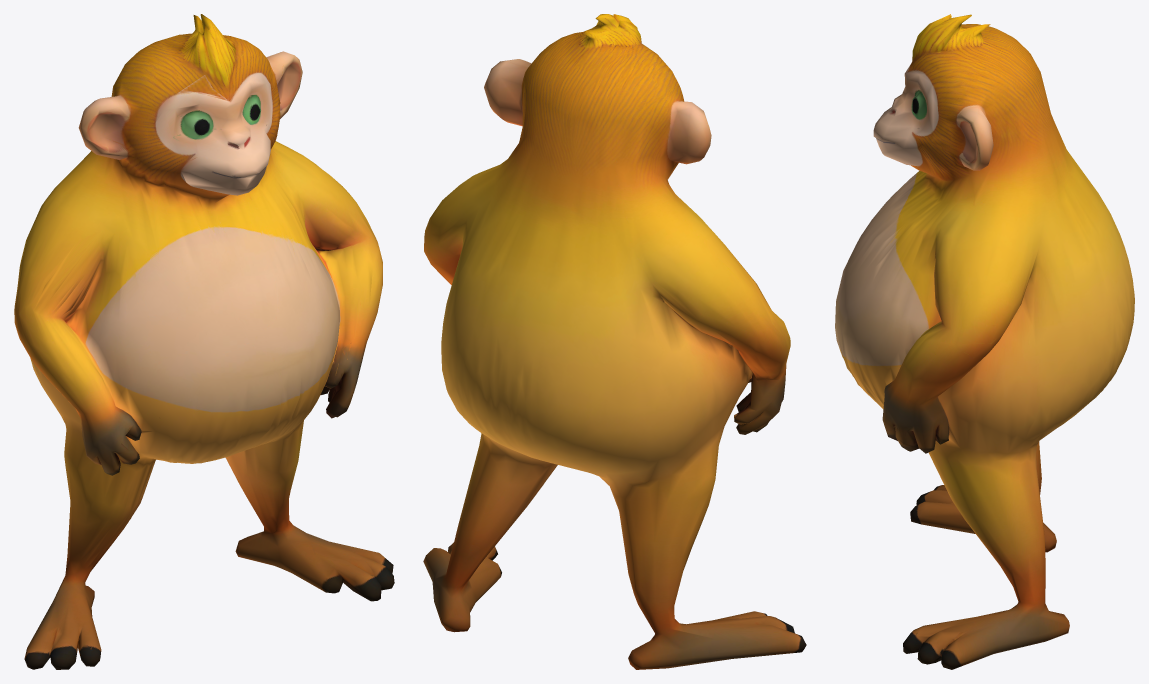
3 renders of one model, left to right at view 1: azimuth 30°, elevation 25°; view 2: azimuth 150°, elevation 25°; view 3: azimuth 270°, elevation 25°, orthographic. The views are drawn at different scales.
Parts seen in each view (by area): view 1: tripo_node_b1b4c305; view 2: tripo_node_b1b4c305; view 3: tripo_node_b1b4c305.
Boxes of the visible parts, x1,y1,x2,y2 form: tripo_node_b1b4c305: [14, 14, 394, 669]; tripo_node_b1b4c305: [423, 14, 806, 669]; tripo_node_b1b4c305: [835, 14, 1134, 669].
Size of the model in its own units: 0.6501 by 0.9998 by 0.474.
Materials: 1 (1 with a texture image).
